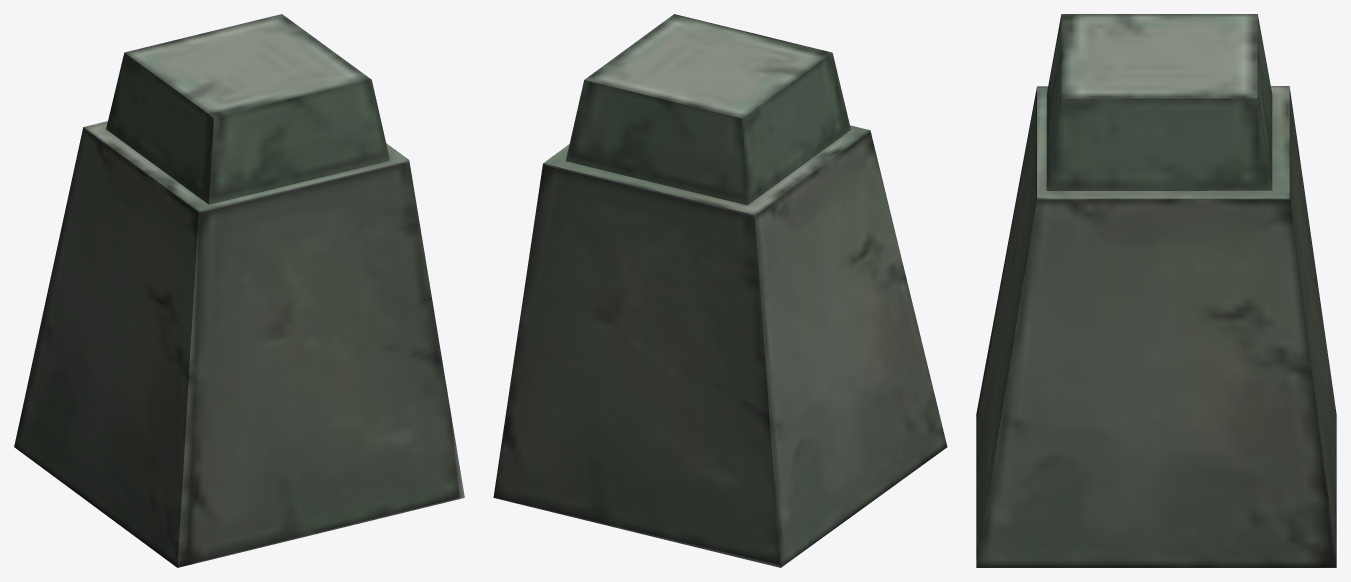
The model's file is 2_YiZhan_ShiQiao_12.FBX.
The picture shows the model from 3 angles, left to right: view 1: azimuth 30°, elevation 25°; view 2: azimuth 150°, elevation 25°; view 3: azimuth 270°, elevation 25°; orthographic projection. The views are drawn at different scales.
Visible parts, largest first — view 1: 2_YiZhan_ShiQiao_12; view 2: 2_YiZhan_ShiQiao_12; view 3: 2_YiZhan_ShiQiao_12.
Part boxes in pixels (<box>): 2_YiZhan_ShiQiao_12: <box>14,14,464,567</box>; 2_YiZhan_ShiQiao_12: <box>493,14,947,567</box>; 2_YiZhan_ShiQiao_12: <box>976,14,1336,567</box>.
Bounding box in the file's own units: 197 × 264 × 196.
